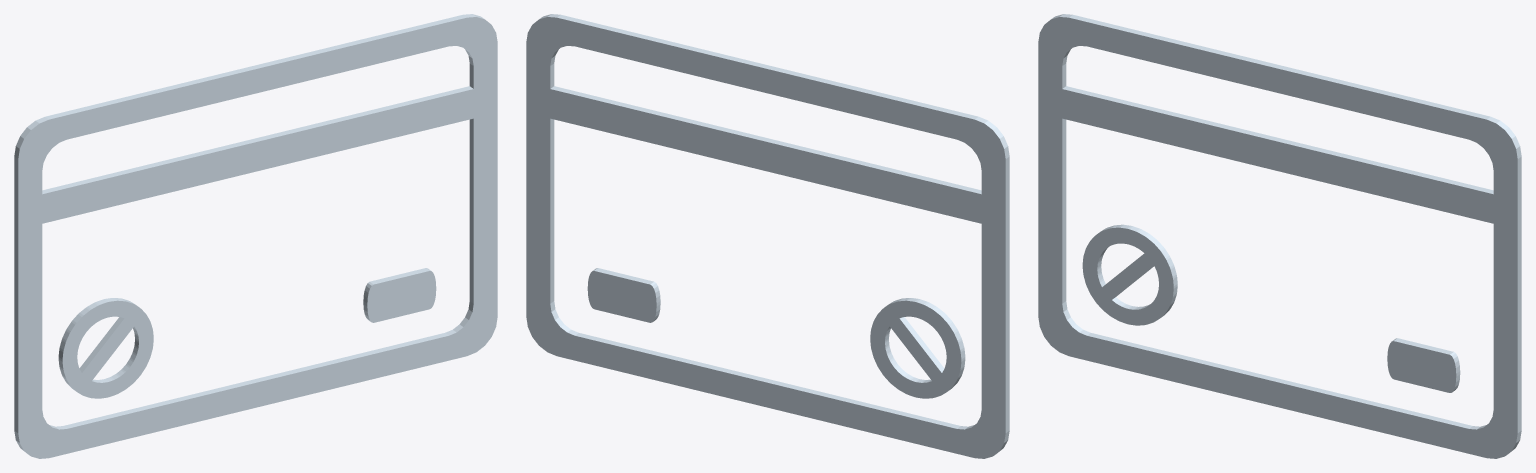
File: Payment_Card_Cancel_3D_Icon.fbx
3 views of the same model, side by side, from view 1: azimuth 30°, elevation 25°; view 2: azimuth 150°, elevation 25°; view 3: azimuth 330°, elevation 25° (orthographic).
Visible parts, largest first — view 1: Payment_Card_Cancel_3D_Icon; view 2: Payment_Card_Cancel_3D_Icon; view 3: Payment_Card_Cancel_3D_Icon.
Boxes of the visible parts, x1,y1,x2,y2 form: Payment_Card_Cancel_3D_Icon: (14,14,497,458); Payment_Card_Cancel_3D_Icon: (526,14,1009,458); Payment_Card_Cancel_3D_Icon: (1038,14,1521,458).
Bounding box in the file's own units: 138 × 93.31 × 2.
